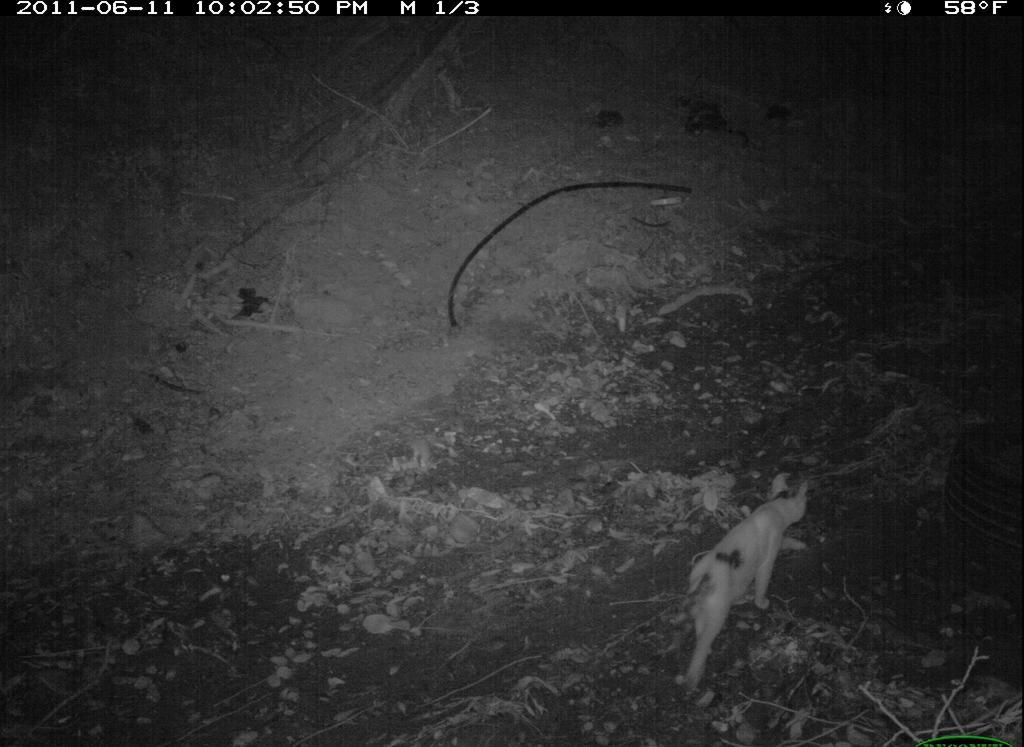cat: (667, 472, 822, 699)
